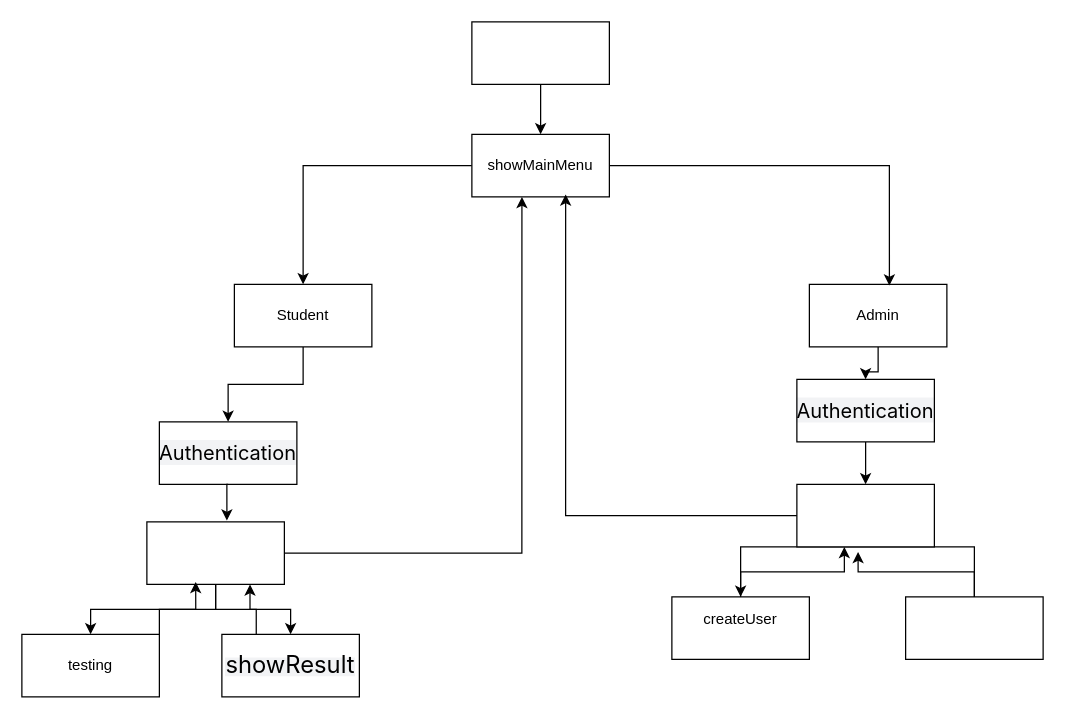
Some shapes in this 1065 by 719 pixel diagram are drawn without their labels. Each missing label, with the box of its shape:
deleteUser: (904, 596, 1043, 659)
showAdminMenu: (796, 483, 934, 547)
showStudentMenu: (146, 521, 284, 584)
User: (471, 21, 609, 84)
